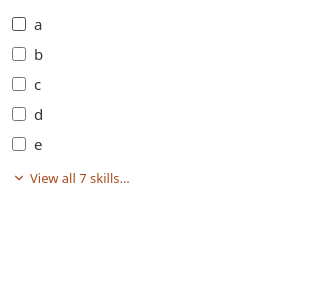
a row checked while expanded survives collapsing, and still saves
This screenshot has width=332, height=286.
expect the checkbox labelled "g" is not shown: met
Click the button "View all 7 skills…": click(71, 178) [12,168,130,188]
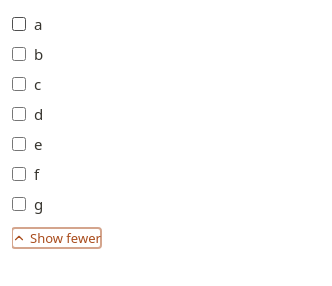
Click the checkbox labelled "g": click(19, 204) [12,197,26,211]
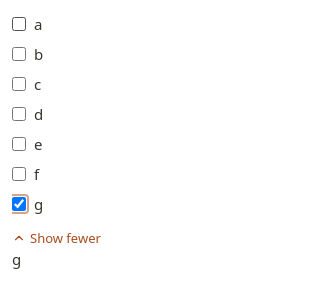
Click the button "Show fewer": click(56, 238) [12,228,101,248]
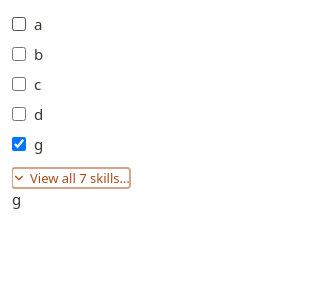
expect the checkbox labelled "g" is checked: met, box [12,137,26,151]
expect the text with test id "would-save" reads "g": met, box [12,189,21,209]
expect the number of checkboxes is 5: met, box [12,17,26,31]; [12,47,26,61]; [12,77,26,91]; [12,107,26,121]; [12,137,26,151]
